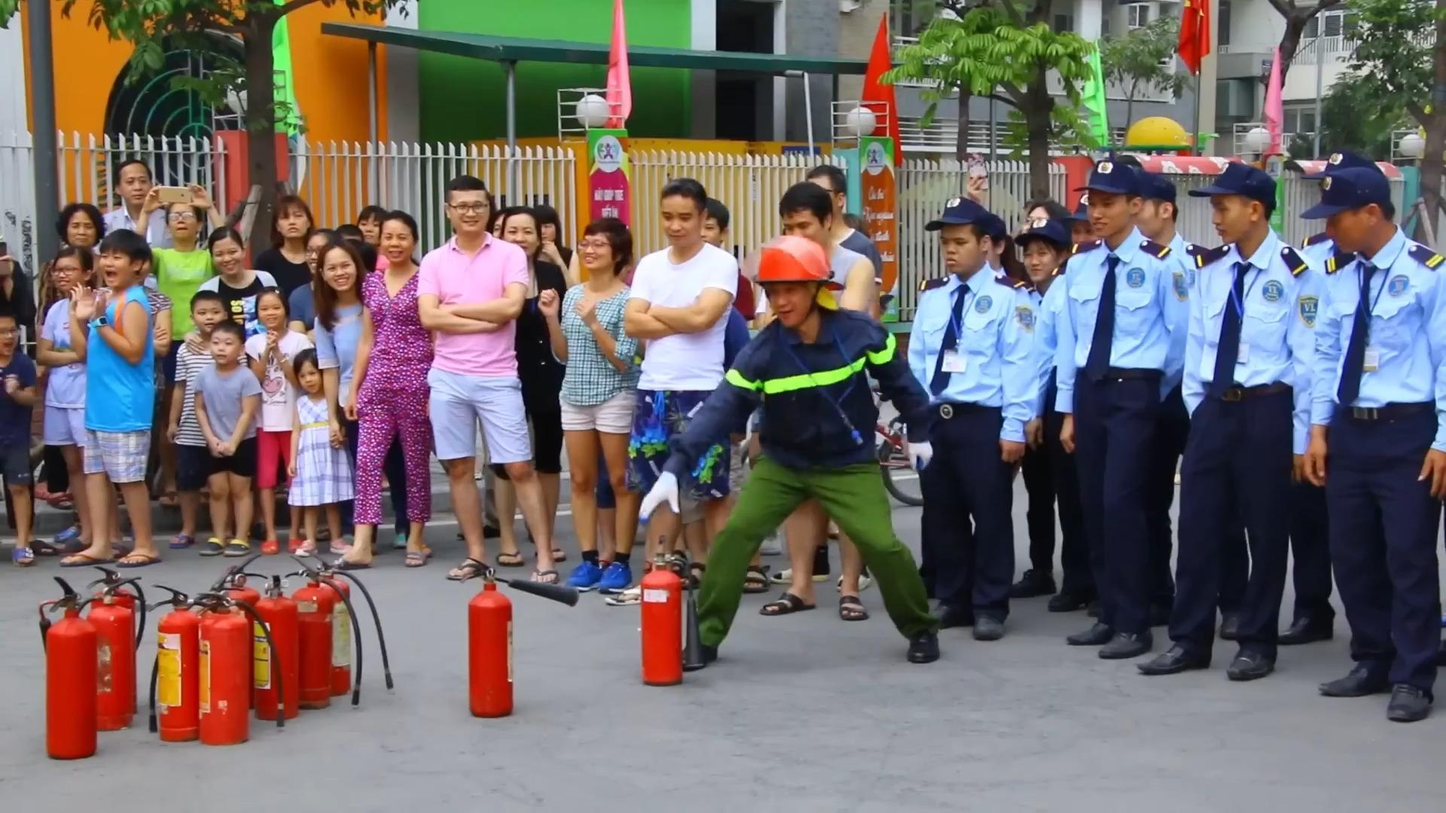FireExtinguisher: (464, 563, 579, 728), (296, 556, 396, 712), (200, 563, 275, 752), (34, 569, 105, 767), (87, 556, 154, 735), (631, 559, 716, 700), (153, 580, 211, 748), (260, 578, 317, 729)
not: (347, 209, 433, 555), (427, 172, 524, 381), (576, 0, 636, 228), (855, 17, 915, 168), (737, 221, 850, 297), (244, 416, 309, 500), (1262, 47, 1295, 166), (1173, 0, 1219, 85)
